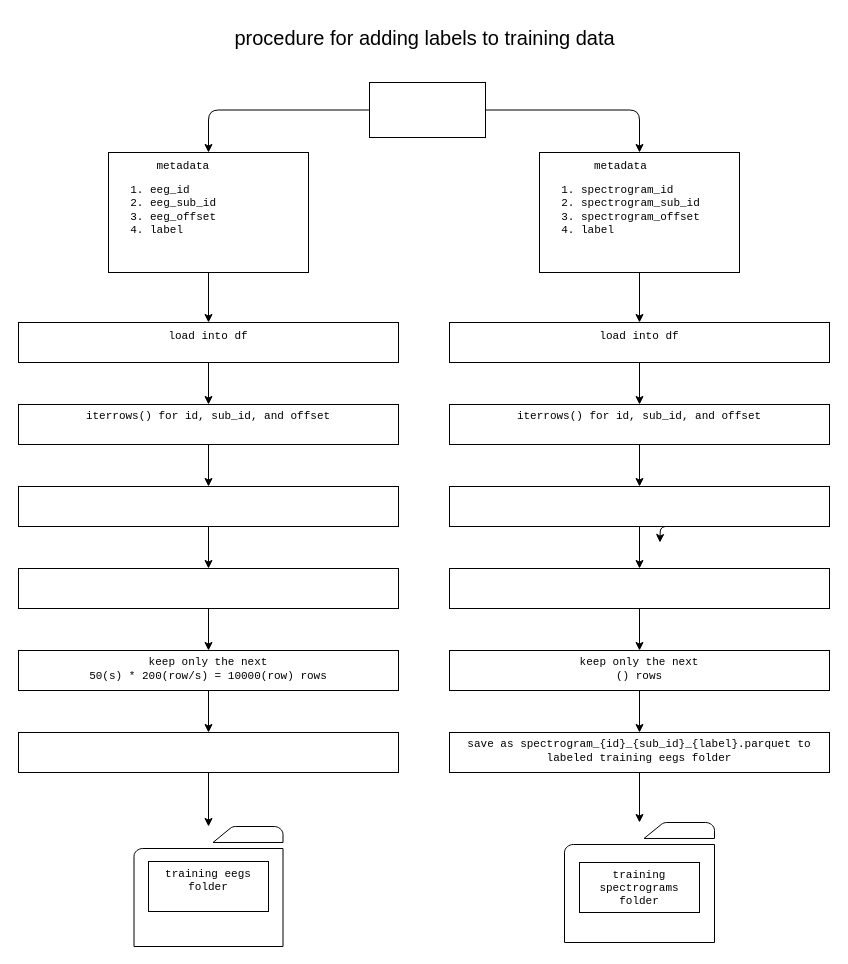
The diagram is 848 pixels wide and 964 high, and some of its shapes have lost their labels. The shapes that lost their labels are listed below. From the top down, each one's box as (x1, y1, x2, y2) in pixels, then its label:
(368, 82, 486, 138): read metadata from train.csv
(18, 486, 398, 526): search for {id}.parquet in training eegs folder
(448, 486, 830, 526): search for {id}.parquet in training spectrograms folder
(18, 568, 398, 608): remove the first ({offset}(s) * 200(row/s)) rows
(448, 568, 830, 608): remove the first () rows
(18, 732, 398, 772): save as eeg_{id}_{sub_id}_{label}.parquet to labeled training eegs folder
